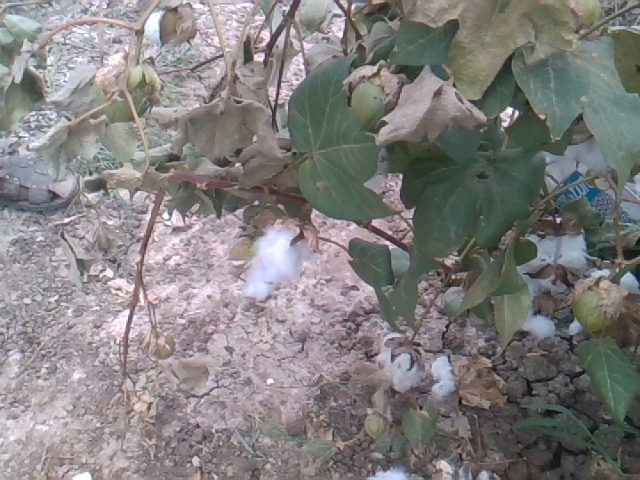cotton: (501, 266, 573, 339), (239, 223, 305, 300), (521, 215, 588, 284), (541, 128, 609, 185), (375, 332, 426, 392), (138, 6, 199, 49), (342, 144, 389, 196), (258, 124, 303, 168)
